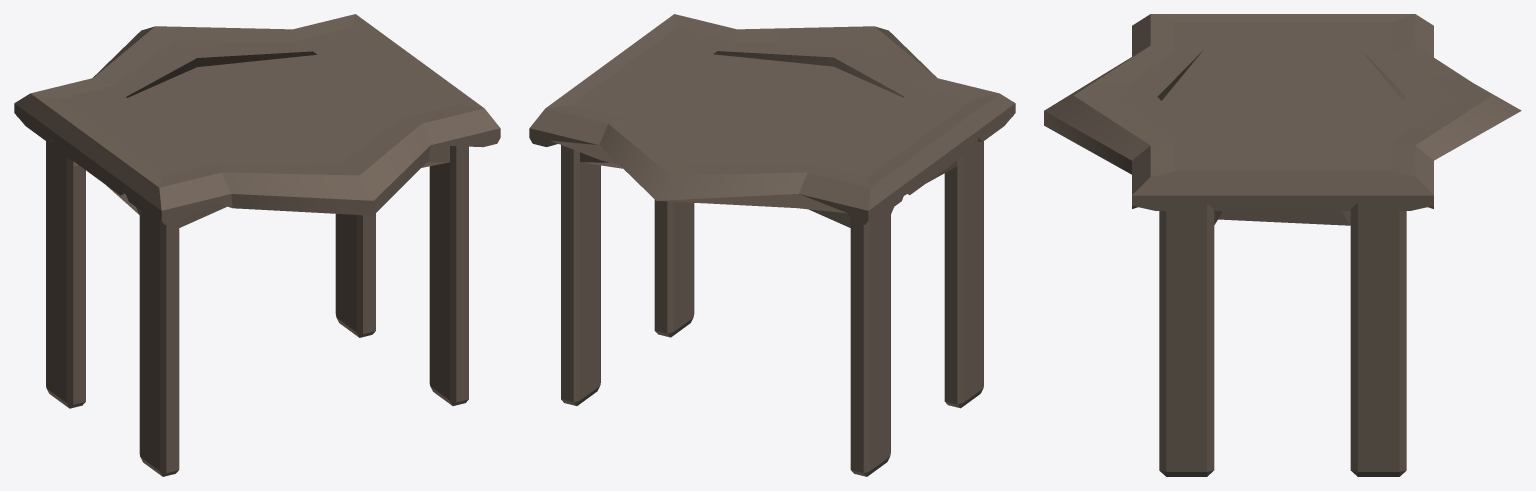
Rendered from squareTable.fbx.
The picture shows the model from 3 angles, left to right: view 1: azimuth 30°, elevation 25°; view 2: azimuth 150°, elevation 25°; view 3: azimuth 270°, elevation 25°; orthographic projection. The views are drawn at different scales.
Visible parts, largest first — view 1: otherTable; view 2: otherTable; view 3: otherTable.
Part boxes in pixels (x1=…): otherTable: x1=14, y1=14, x2=500, y2=476; otherTable: x1=529, y1=14, x2=1015, y2=476; otherTable: x1=1044, y1=14, x2=1521, y2=476.
Bounding box in the file's own units: 80.55 × 67.6 × 95.77.
